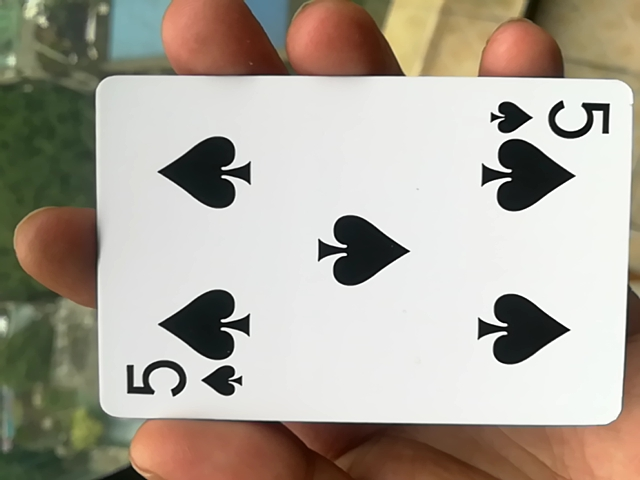ht 5: (69, 80, 633, 442)
